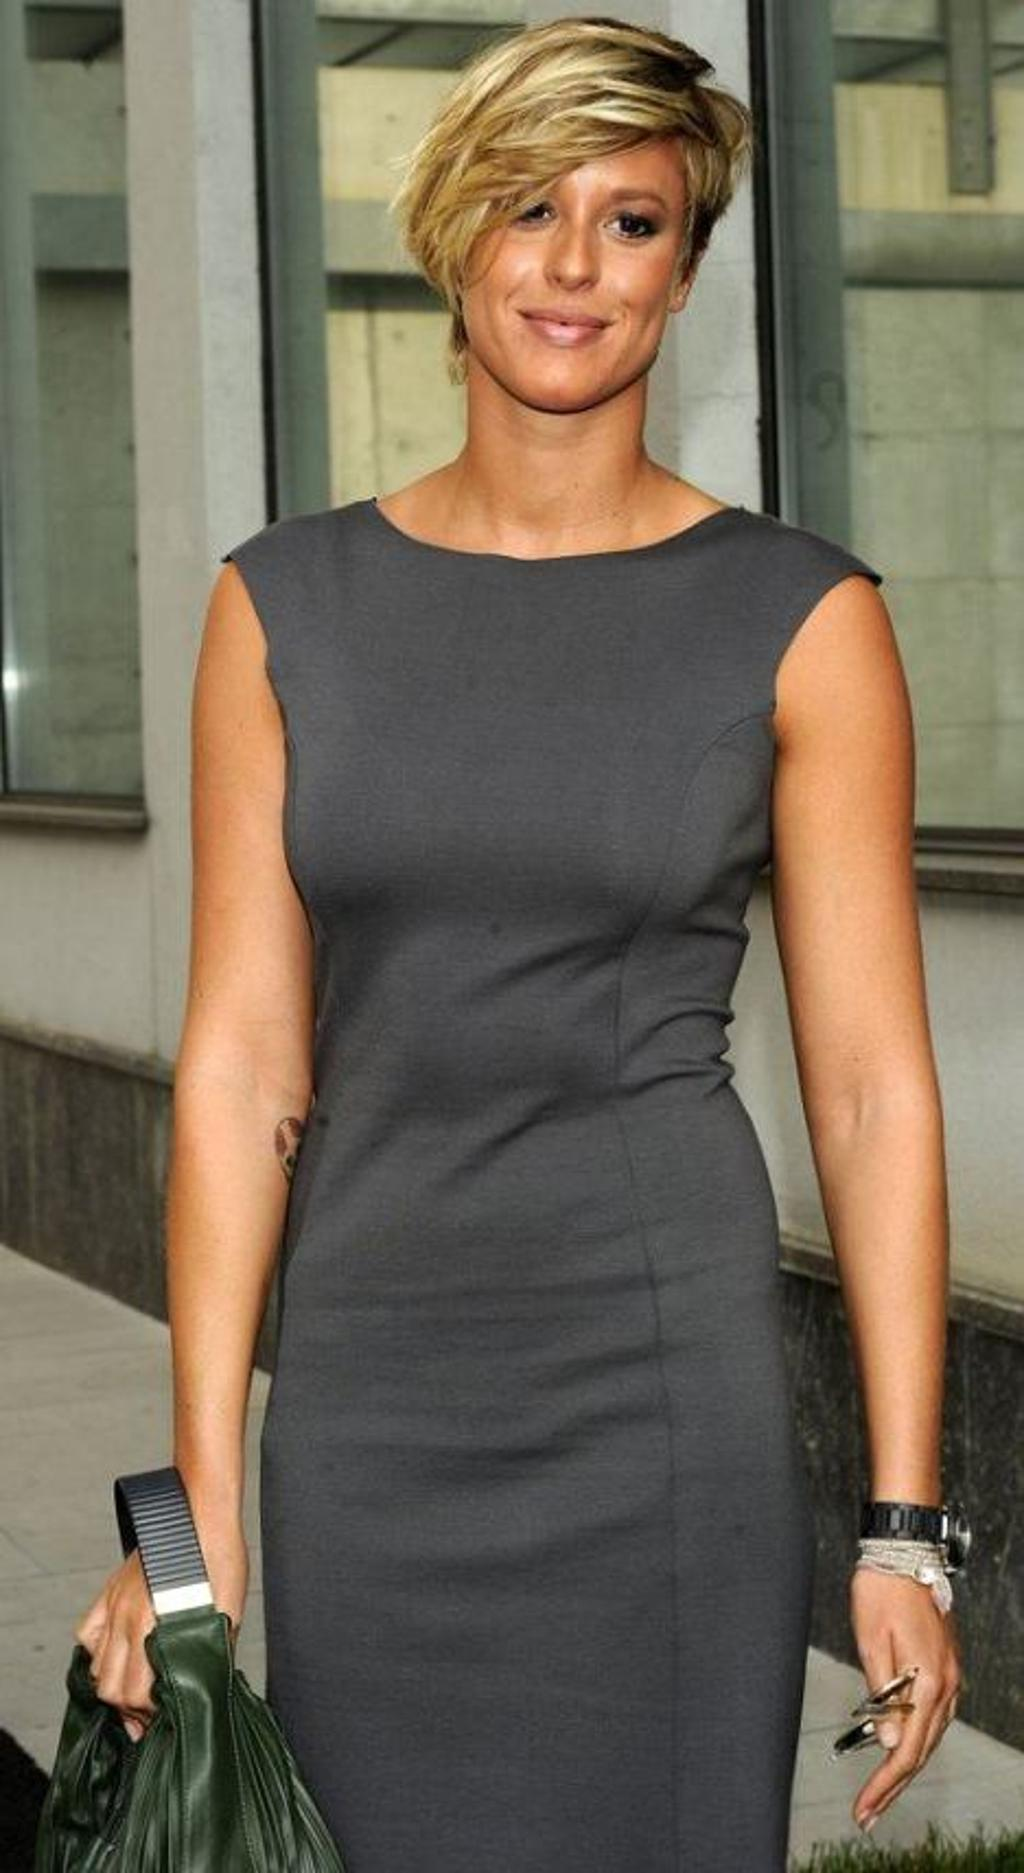face: (464, 113, 680, 409)
